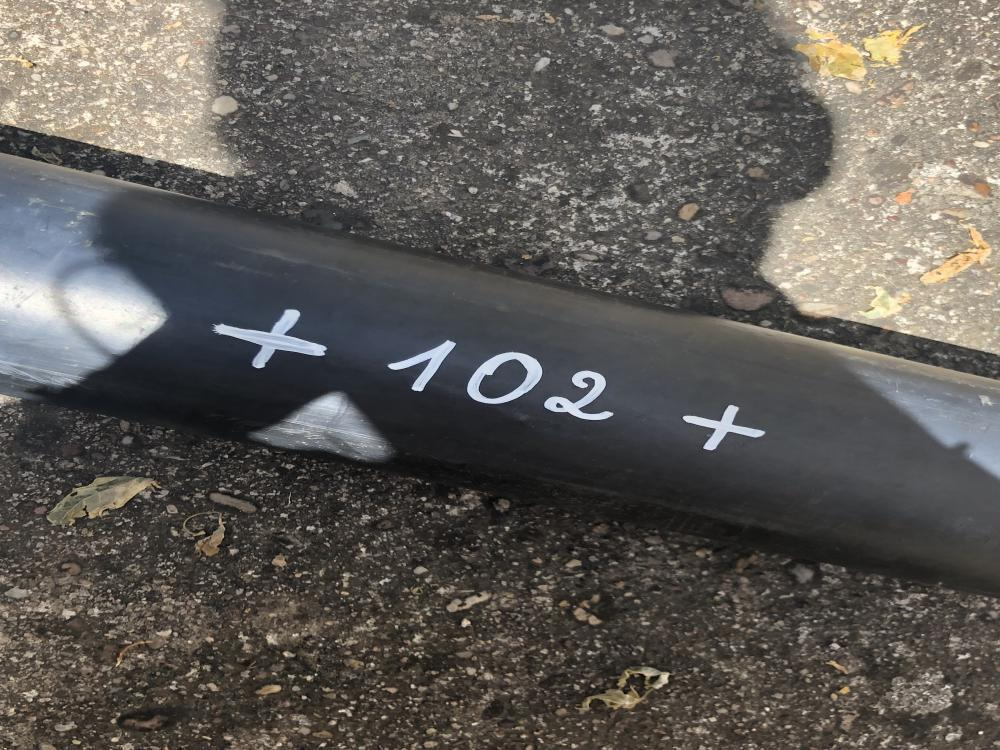+: (216, 308, 328, 368), (684, 405, 766, 450)
0: (466, 350, 544, 406)
1: (387, 340, 458, 392)
2: (544, 370, 614, 420)
